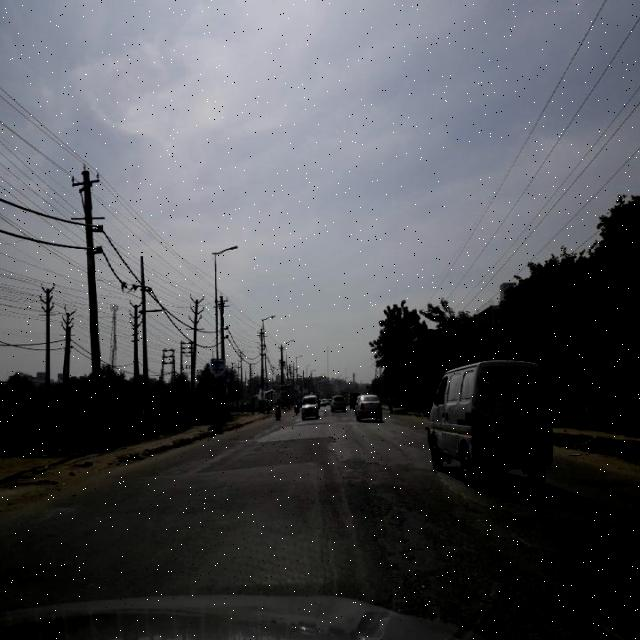D40: (372, 497, 450, 593)
